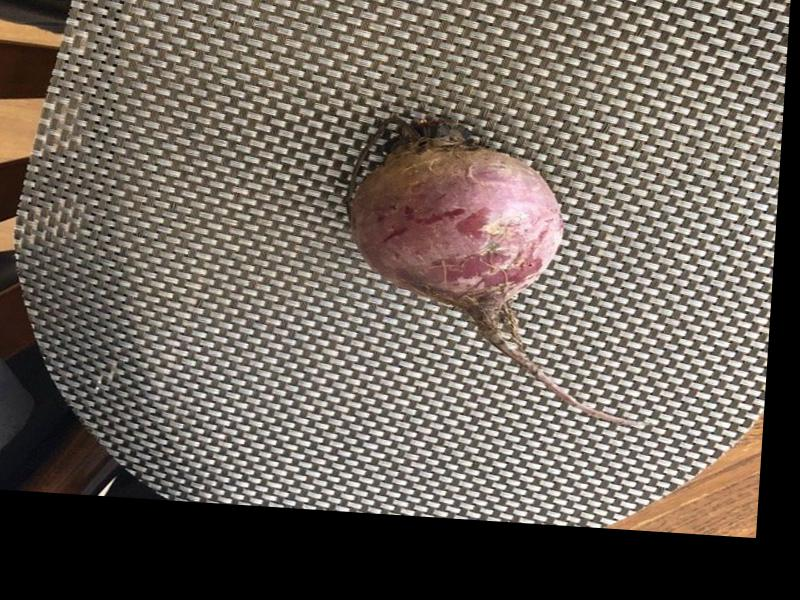Beet: (335, 110, 663, 428)
